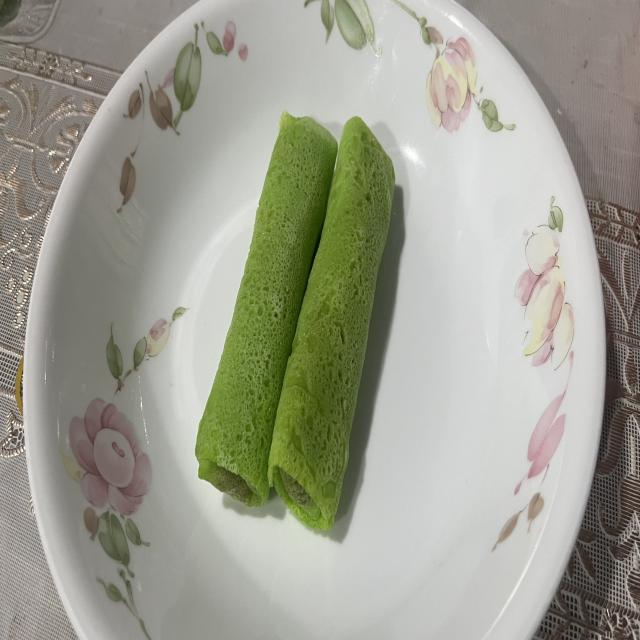Kuih-Ketayap: (195, 111, 338, 507), (268, 118, 395, 529)
